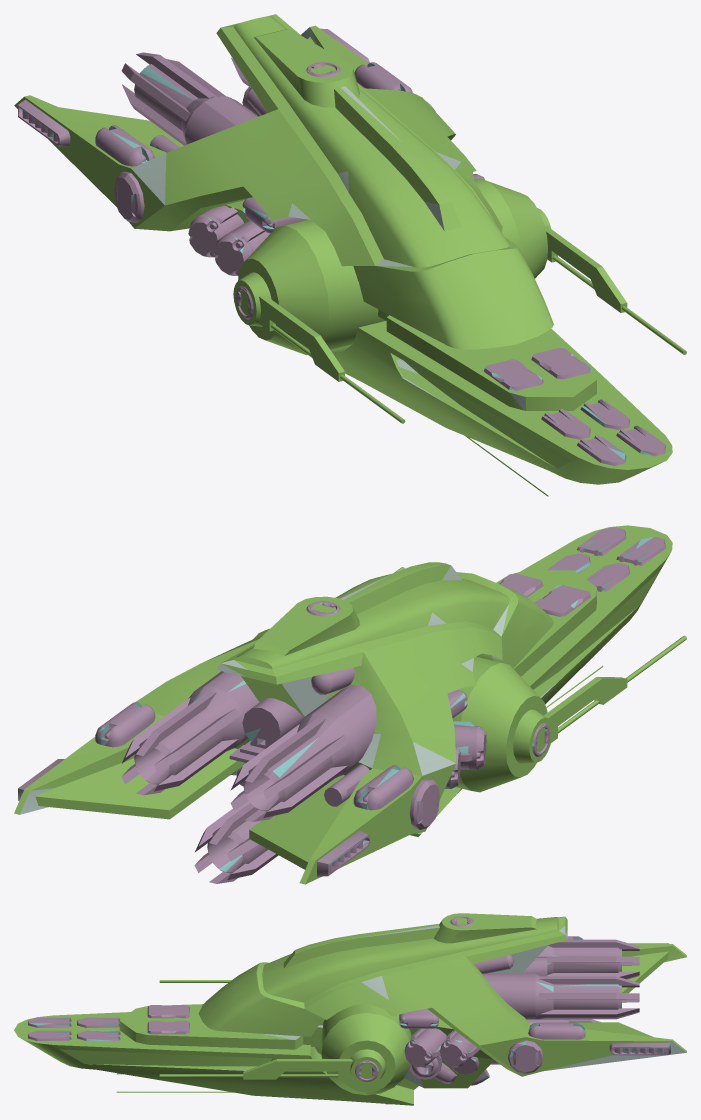
The model's file is Blender249_modify.fbx.
The picture shows the model from 3 angles, top to bottom: view 1: azimuth 30°, elevation 25°; view 2: azimuth 150°, elevation 25°; view 3: azimuth 270°, elevation 25°; orthographic projection. The views are drawn at different scales.
Parts seen in each view (by area): view 1: 000-0-0, 001-0-1; view 2: 000-0-0, 001-0-1; view 3: 000-0-0, 001-0-1.
Part boxes in pixels (box(x1,y1,x2,y2)): 000-0-0: box(14, 14, 686, 496); 001-0-1: box(18, 28, 665, 465); 000-0-0: box(14, 525, 686, 884); 001-0-1: box(18, 527, 665, 883); 000-0-0: box(14, 913, 686, 1105); 001-0-1: box(28, 916, 670, 1104).
Size of the model in its own units: 0.7734 by 0.5834 by 2.12.
